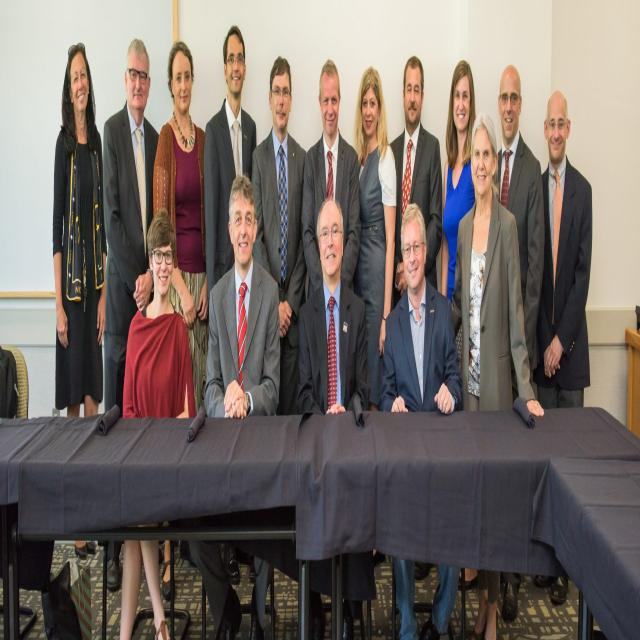body: (449, 112, 547, 638), (200, 171, 282, 640), (379, 197, 465, 640), (118, 207, 196, 640), (102, 36, 161, 592), (297, 196, 368, 640), (50, 38, 110, 562), (204, 23, 258, 586), (151, 36, 211, 418), (251, 54, 307, 418), (440, 59, 478, 594), (532, 88, 593, 411), (492, 61, 546, 410), (352, 64, 398, 414), (300, 55, 362, 305), (388, 54, 443, 314)
